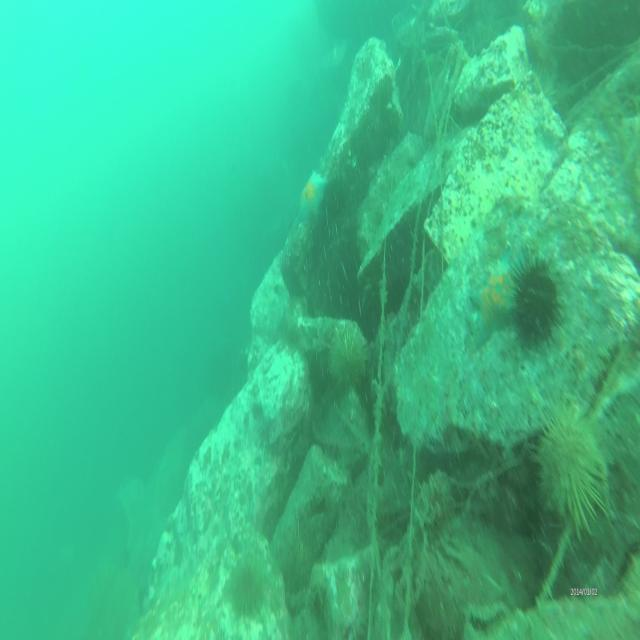echinus: (537, 401, 611, 538), (510, 257, 562, 344), (419, 580, 467, 640), (324, 332, 368, 388), (281, 534, 317, 590), (228, 553, 260, 611)
starfish: (466, 278, 519, 339), (301, 175, 329, 224)
